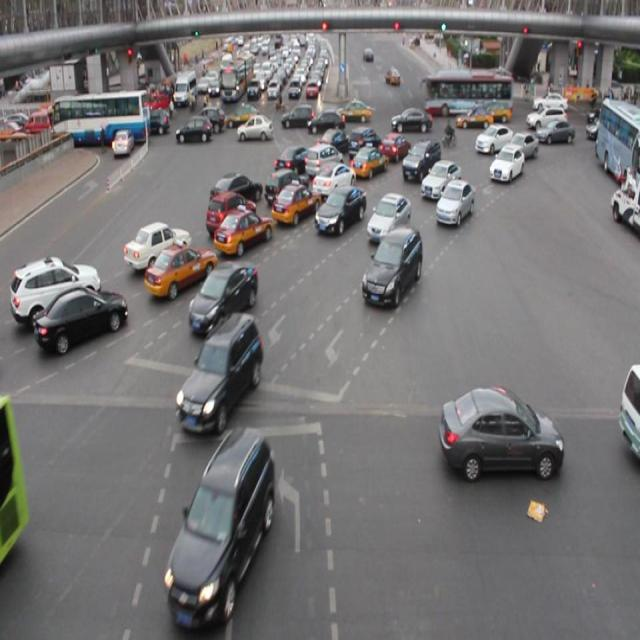car: (166, 427, 273, 618), (438, 386, 561, 479), (178, 309, 260, 435), (32, 284, 126, 354), (11, 256, 99, 321), (187, 257, 258, 331), (361, 227, 421, 304), (145, 243, 214, 297), (122, 220, 190, 271), (212, 208, 273, 260), (313, 185, 364, 238), (205, 192, 256, 238), (272, 180, 319, 224), (366, 193, 409, 240), (210, 173, 262, 210), (434, 181, 474, 227), (401, 138, 442, 182), (264, 168, 307, 208), (311, 163, 355, 202), (420, 158, 459, 201), (487, 144, 523, 183), (273, 145, 315, 177), (350, 143, 384, 181), (347, 125, 382, 158), (502, 132, 538, 164), (378, 128, 411, 162), (474, 124, 512, 151), (315, 125, 347, 156)
truck: (618, 363, 640, 466), (304, 143, 343, 178)
van: (1, 394, 31, 566)
